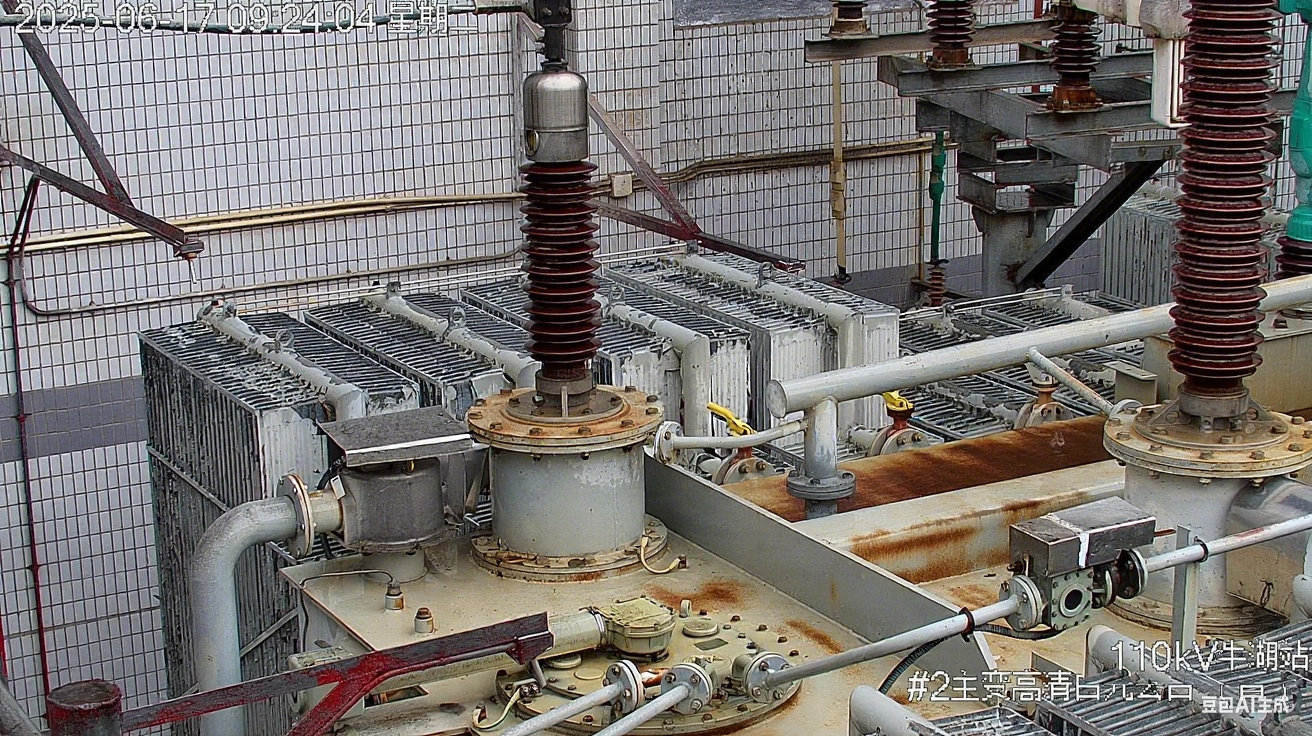HTX: (715, 380, 1181, 666), (639, 575, 866, 678), (1103, 408, 1312, 474), (466, 386, 654, 438), (661, 684, 803, 735), (471, 541, 646, 582), (880, 685, 955, 723), (1040, 81, 1102, 114), (922, 43, 975, 71), (993, 257, 1027, 288), (415, 605, 437, 633), (391, 592, 406, 611)
